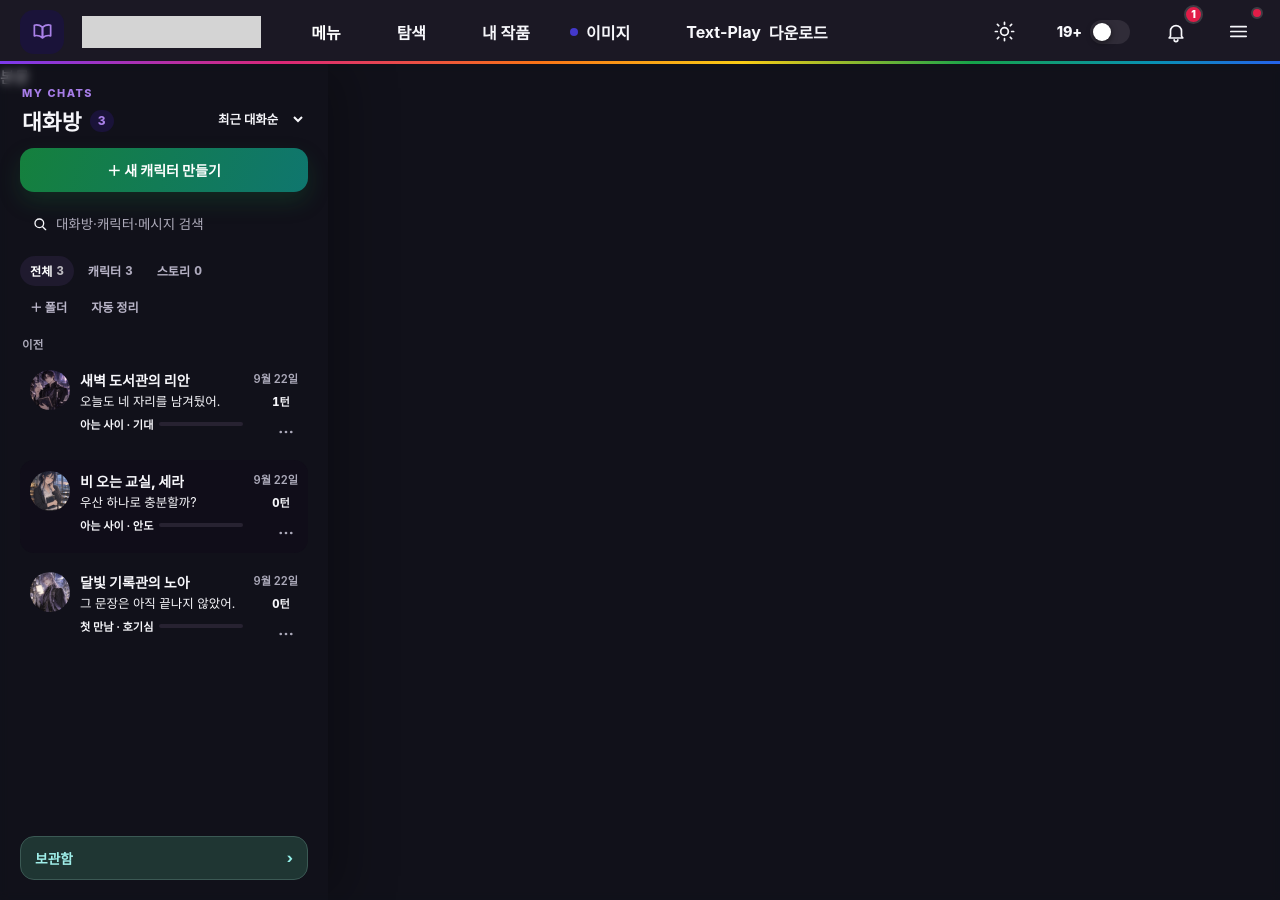
Test: 앱 셸 패널 › 데스크톱 패널 바깥 배경을 선택하면 열린 패널을 닫는다
This screenshot has width=1280, height=900.
Click the button named "열린 패널 닫기". click: (640, 482)
box: [0,64,1279,899]
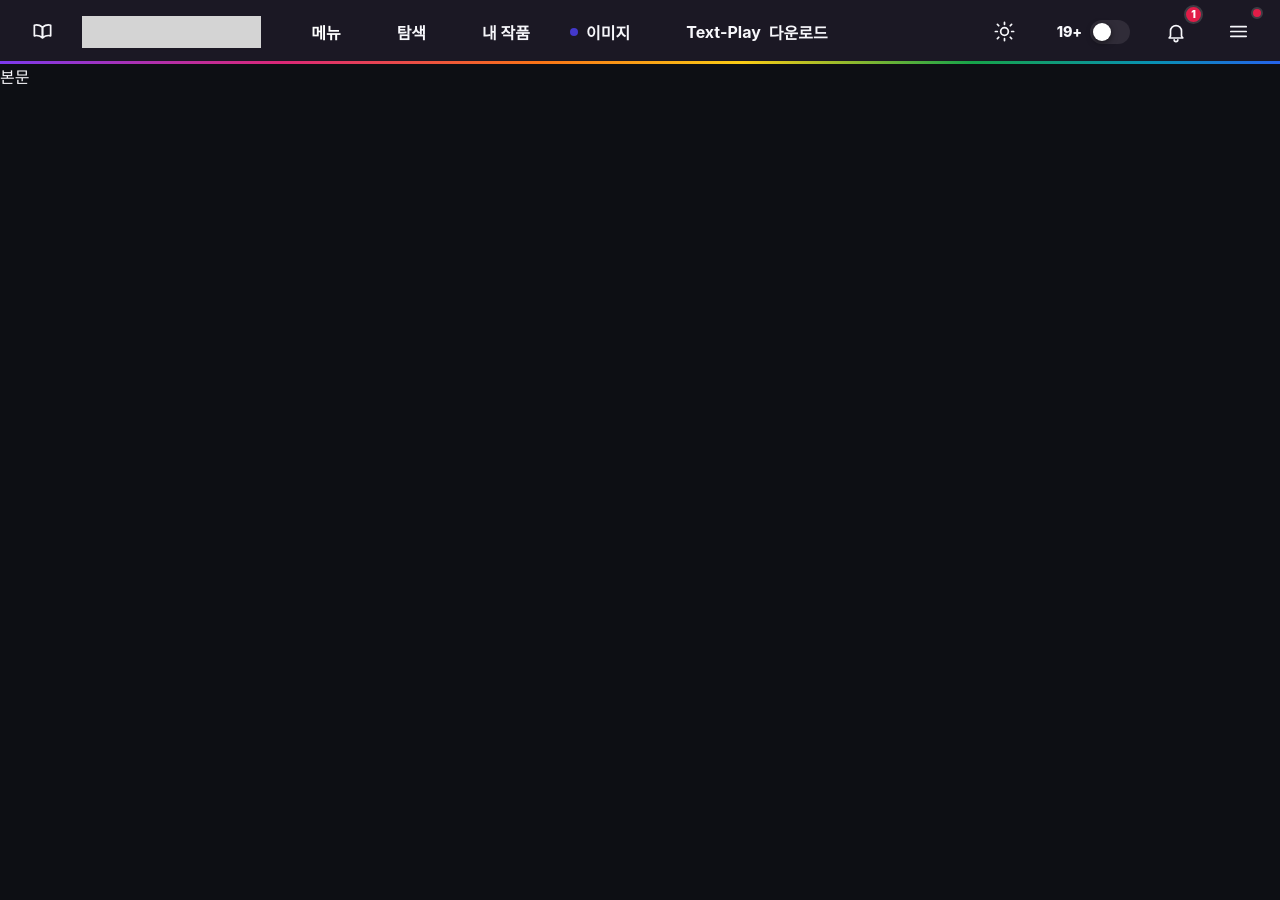
Now the button named "대화방 패널 열기와 닫기" is collapsed, box [20,10,64,54]
